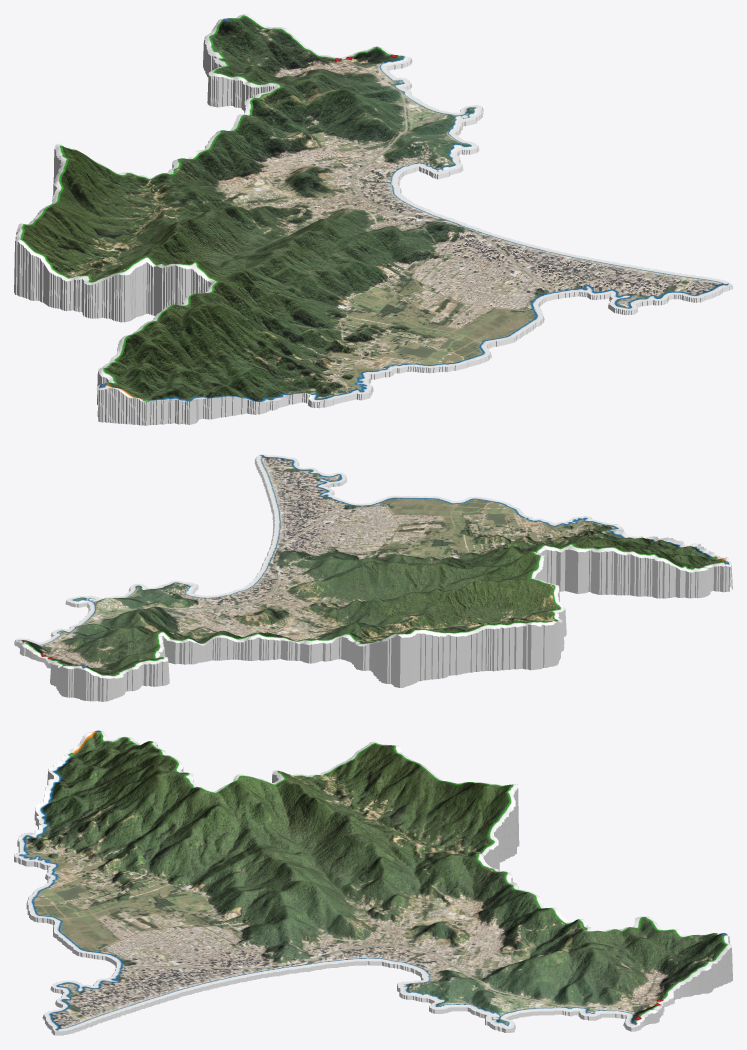
The model's file is itapema_terreno.glb.
The picture shows the model from 3 angles, top to bottom: view 1: azimuth 30°, elevation 25°; view 2: azimuth 150°, elevation 25°; view 3: azimuth 270°, elevation 25°; orthographic projection. The views are drawn at different scales.
Bounding box in the file's own units: 0.9999 × 0.1009 × 1.1.
1 material, 1 textured.
